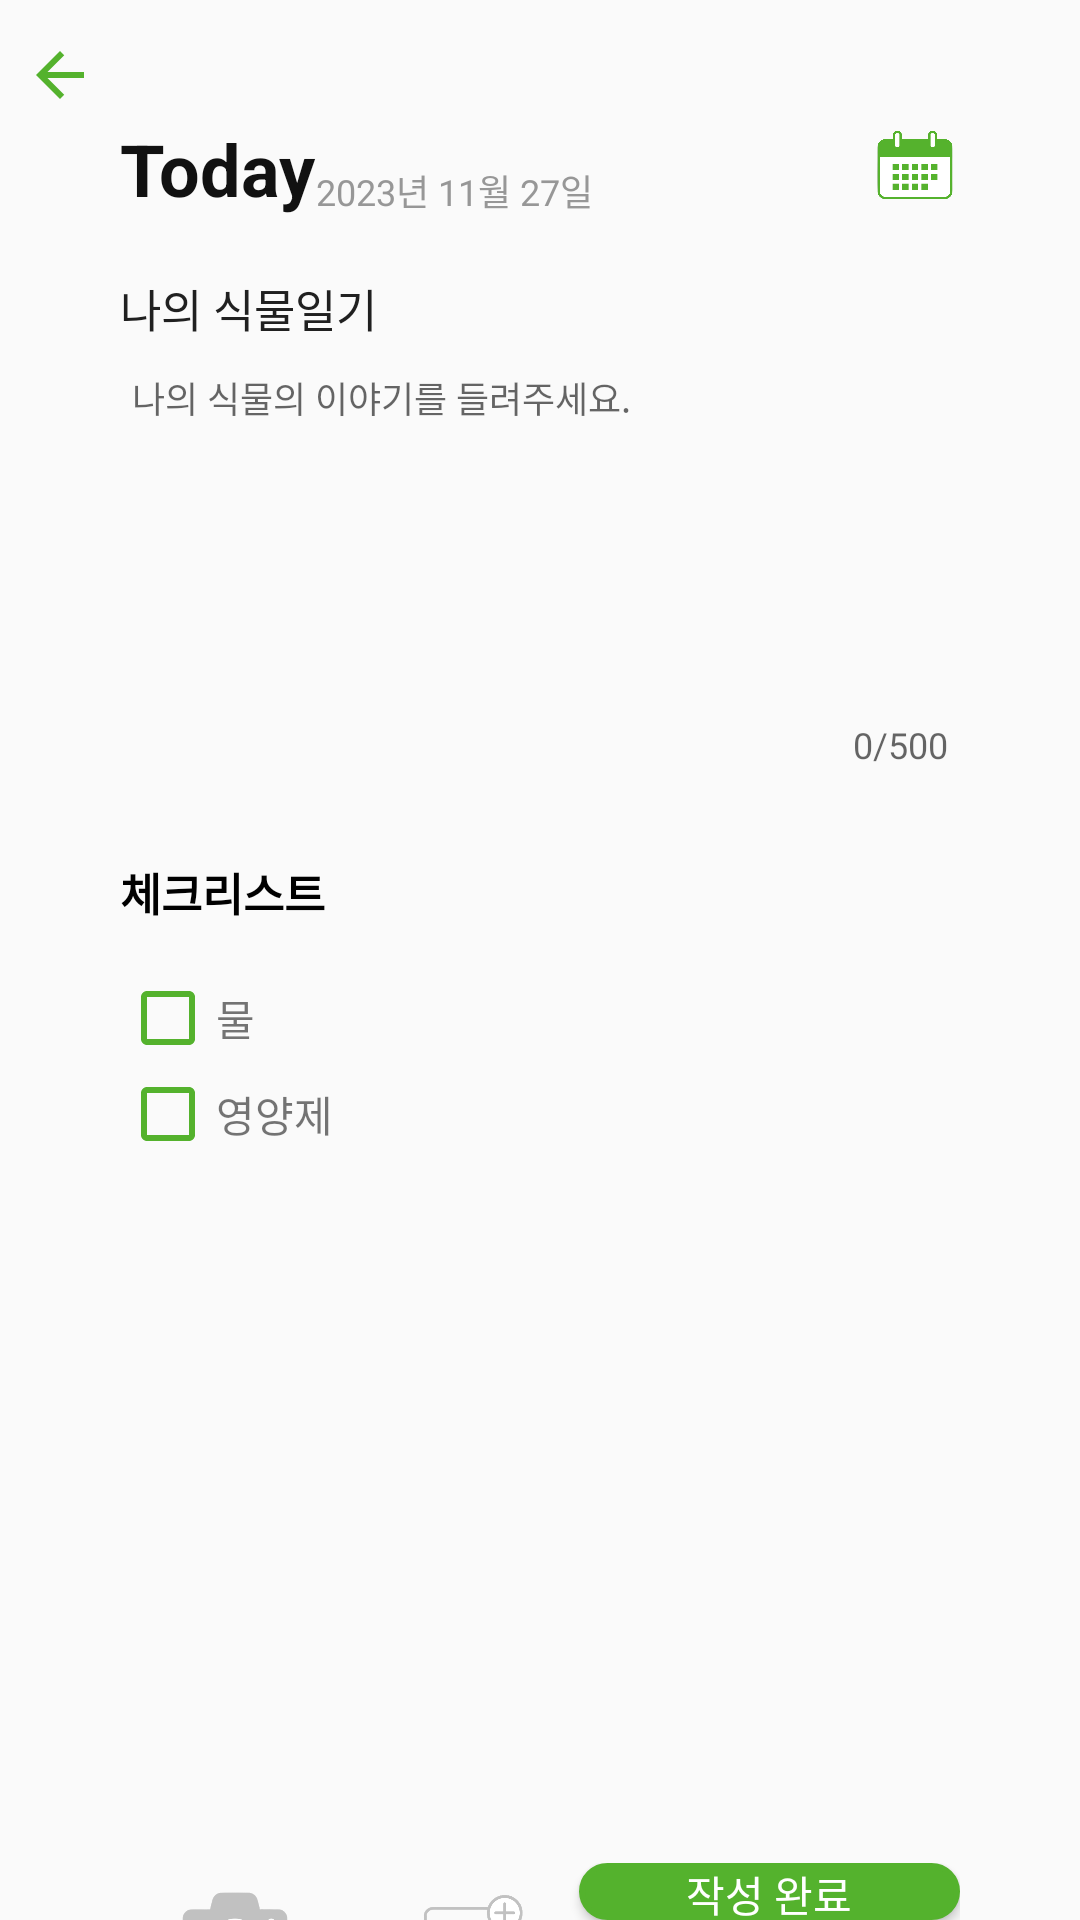

Icon bounding boxes for this 1080×1920 phone screenshot, format (left=x1, top=y1, right=x2, bottom=y2):
diary calendar: (left=877, top=131, right=953, bottom=199)
plant diary back: (left=36, top=51, right=84, bottom=99)
